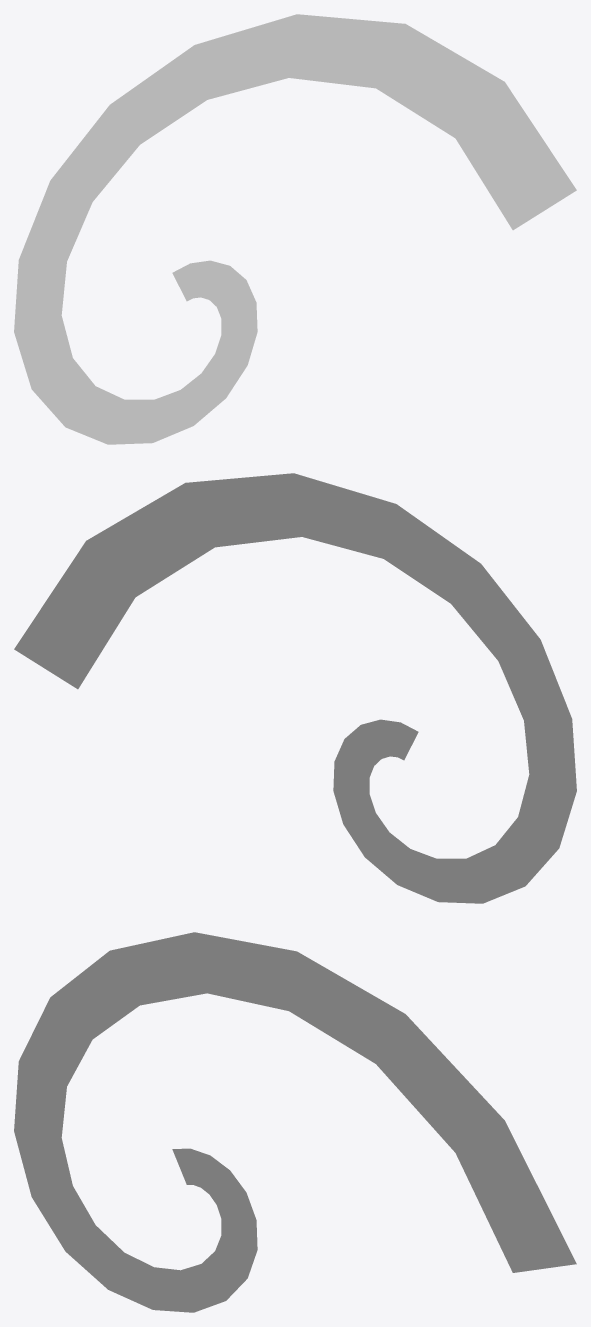
Rendered from Arc 1.fbx.
The picture shows the model from 3 angles, top to bottom: view 1: azimuth 30°, elevation 25°; view 2: azimuth 150°, elevation 25°; view 3: azimuth 330°, elevation 25°; orthographic projection.
Visible parts, largest first — view 1: Arc_1; view 2: Arc_1; view 3: Arc_1.
Part boxes in pixels (x1=…): Arc_1: x1=14, y1=14, x2=576, y2=444; Arc_1: x1=14, y1=473, x2=576, y2=903; Arc_1: x1=14, y1=932, x2=576, y2=1312.
Size of the model in its own units: 124 by 82.69 by 0.
1 material, 1 textured.
